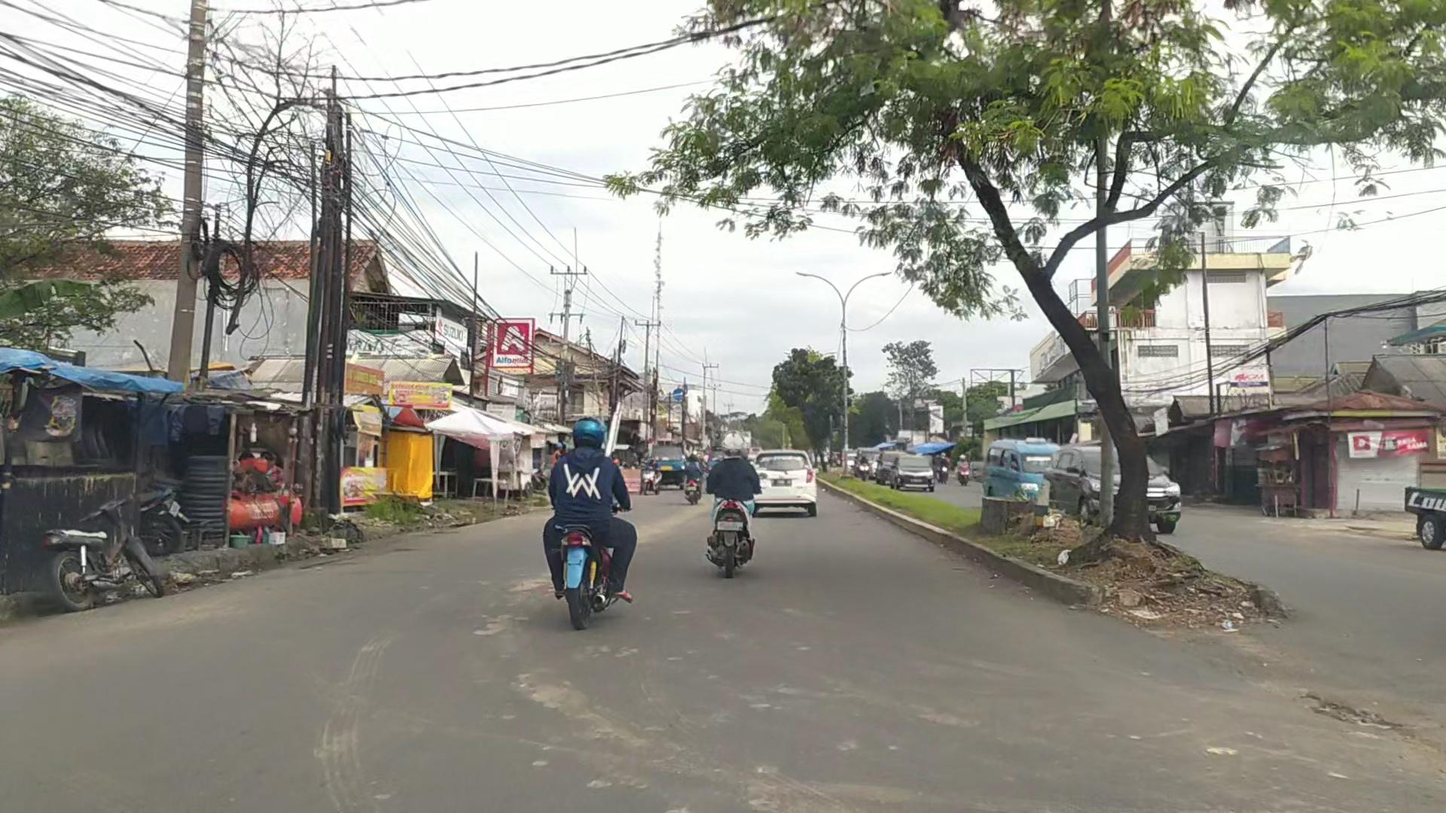pothole: (1301, 690, 1413, 731)
